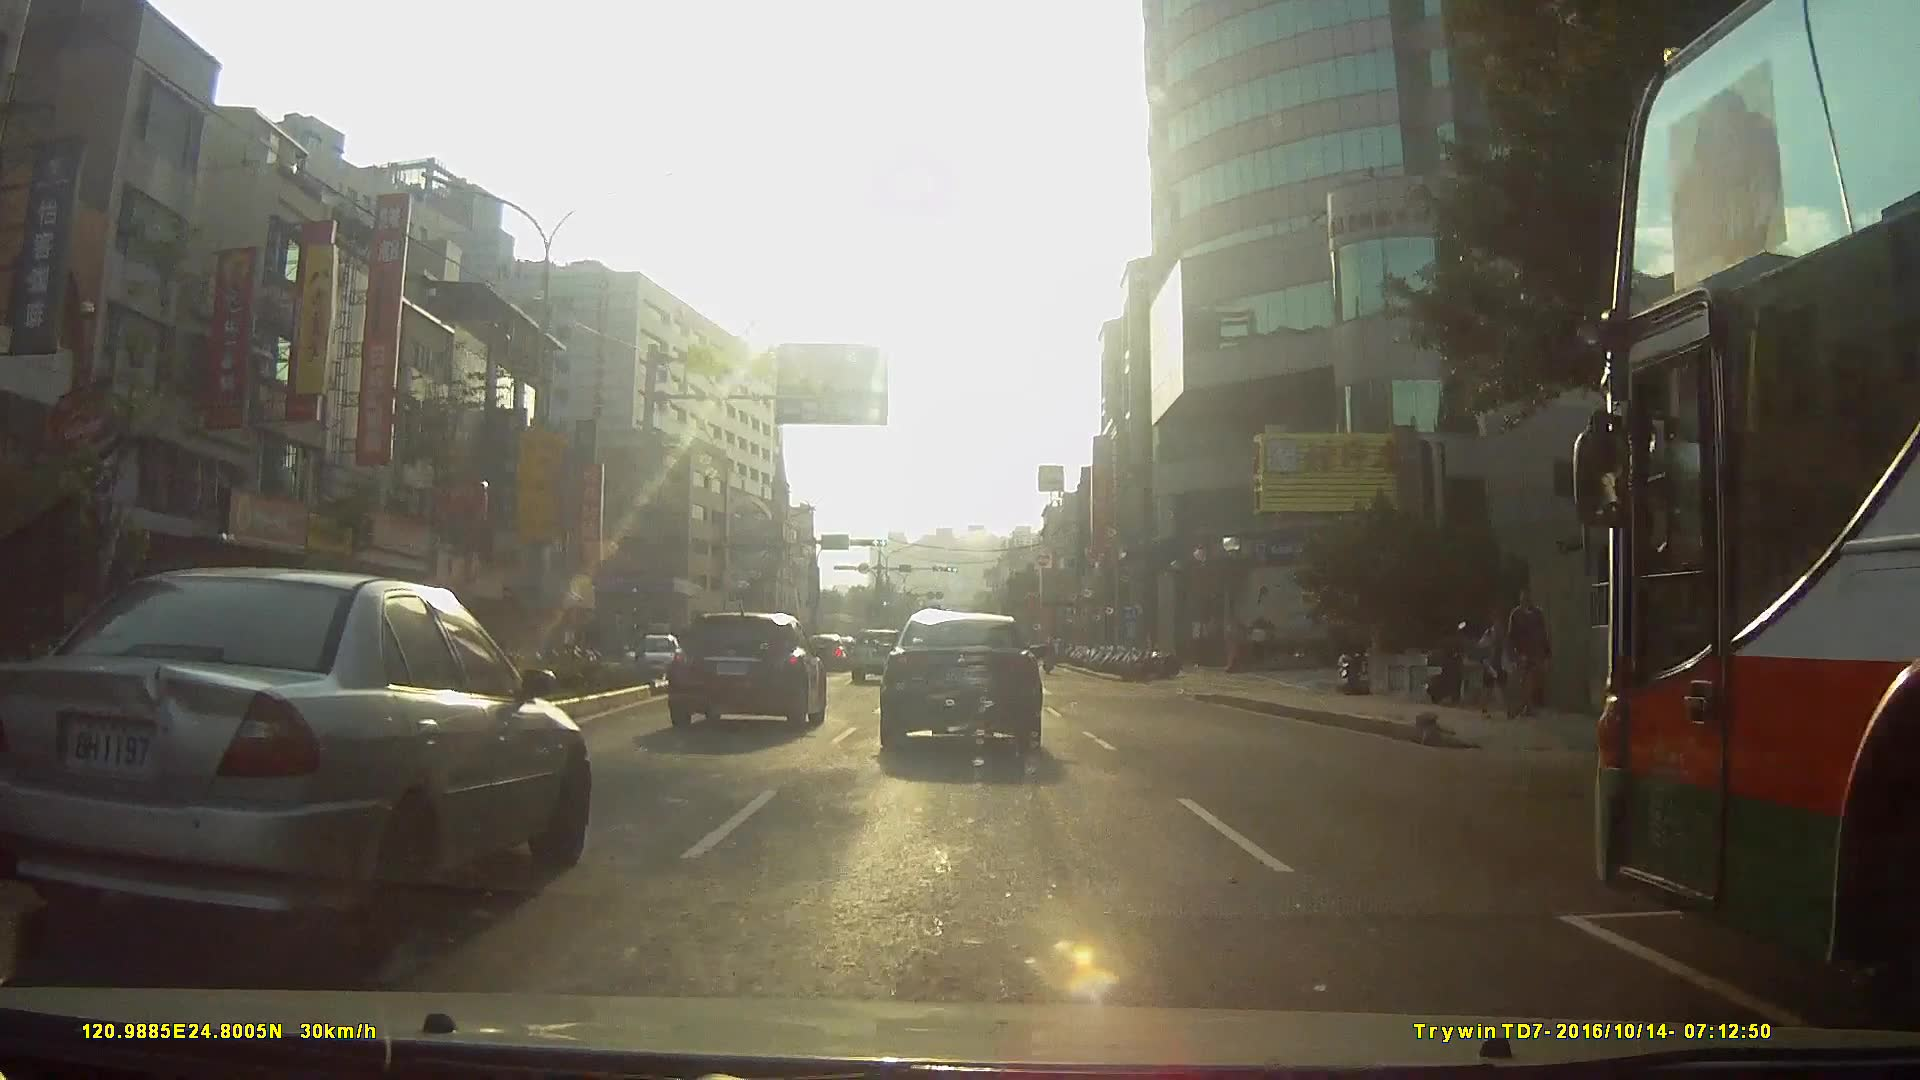pedestrian: (1499, 589, 1552, 722), (1472, 610, 1522, 720)
vehicle: (1524, 1, 1920, 1001), (0, 566, 591, 957), (874, 610, 1041, 755), (666, 614, 827, 735), (846, 627, 906, 682), (626, 633, 685, 684)
